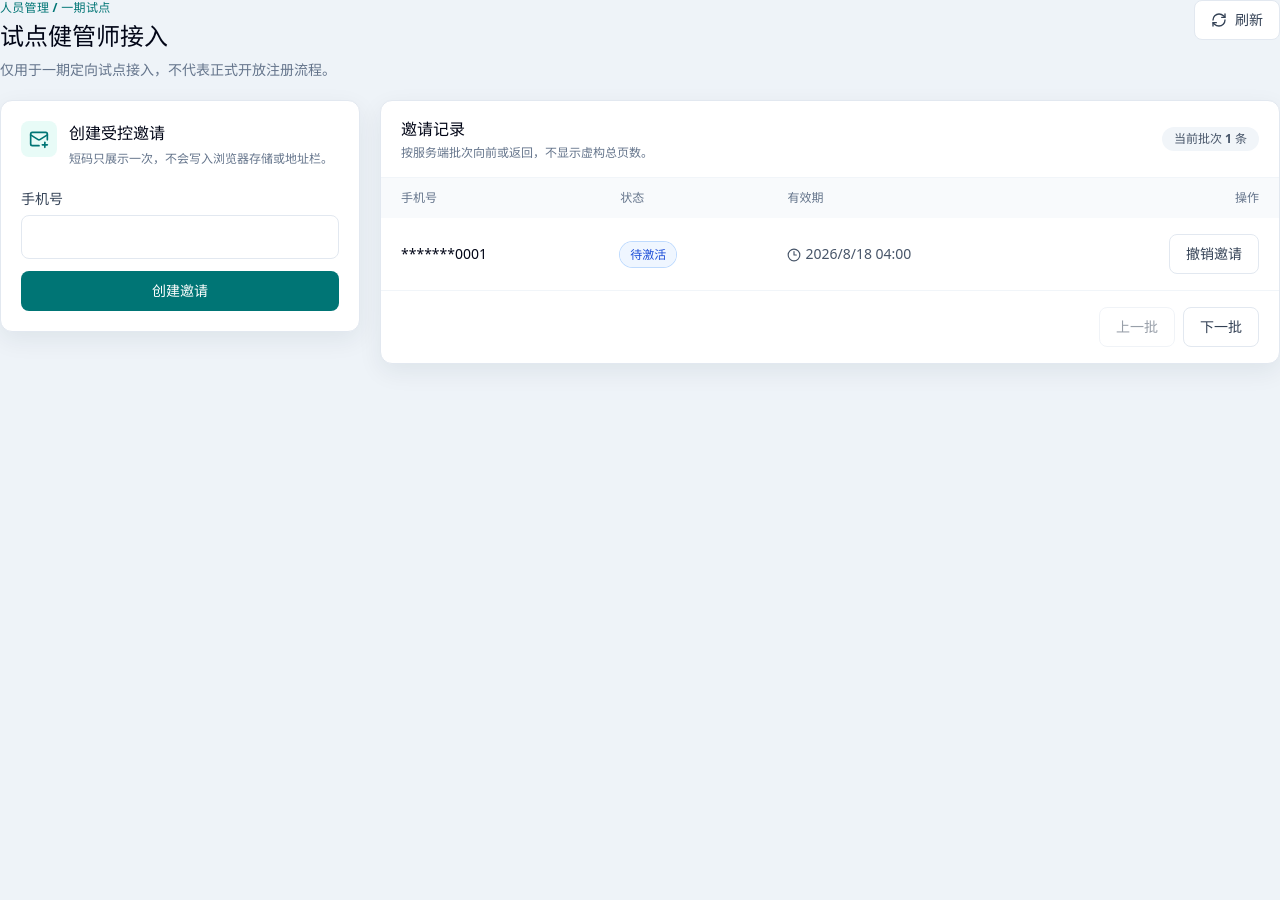
Test: 健管师邀请与资格 › 邀请409只刷新且不自动重放撤销
The image size is (1280, 900).
Click the button "撤销邀请": (1214, 254) left=1169, top=234, right=1259, bottom=274
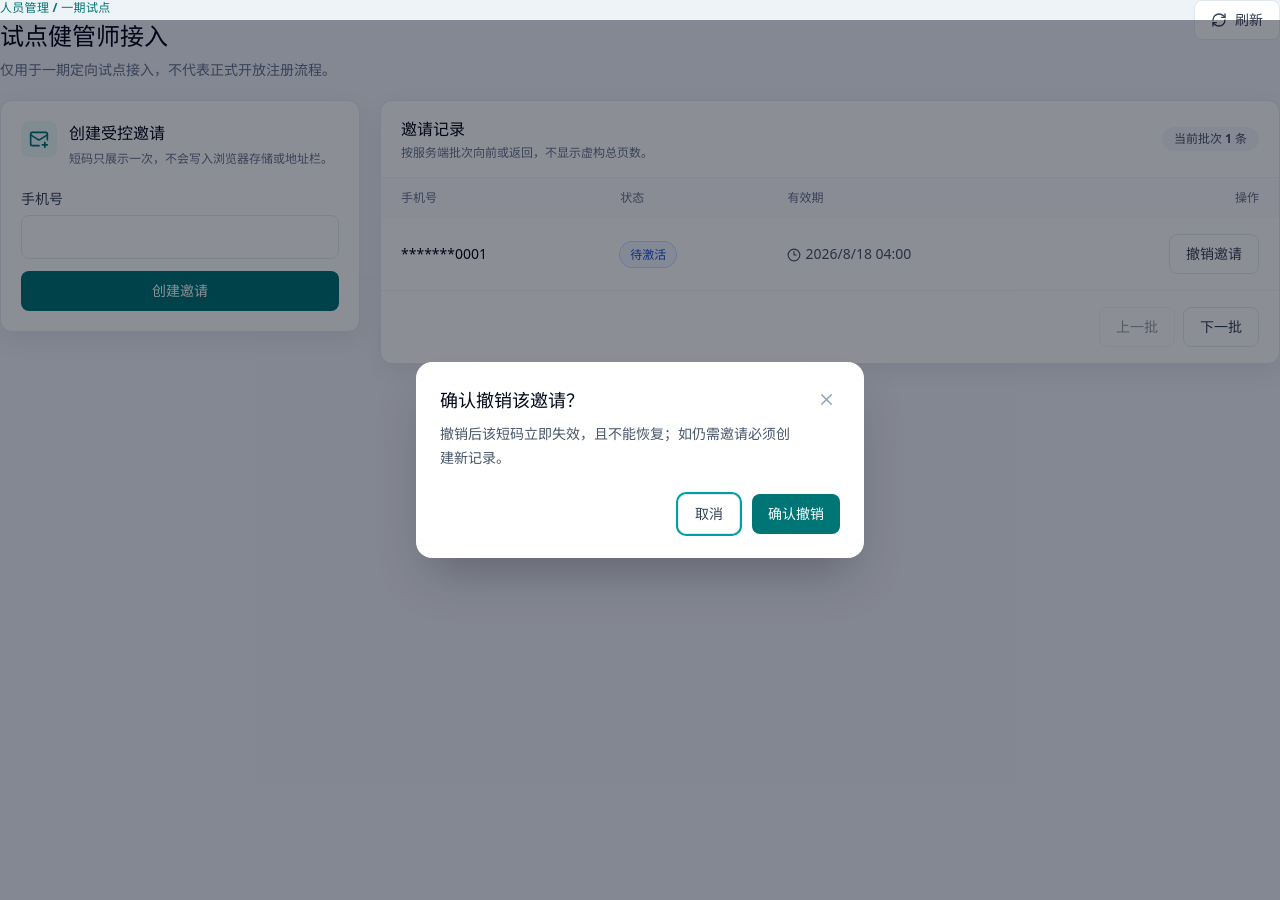
Click the button "确认撤销": (796, 514) left=752, top=494, right=840, bottom=534
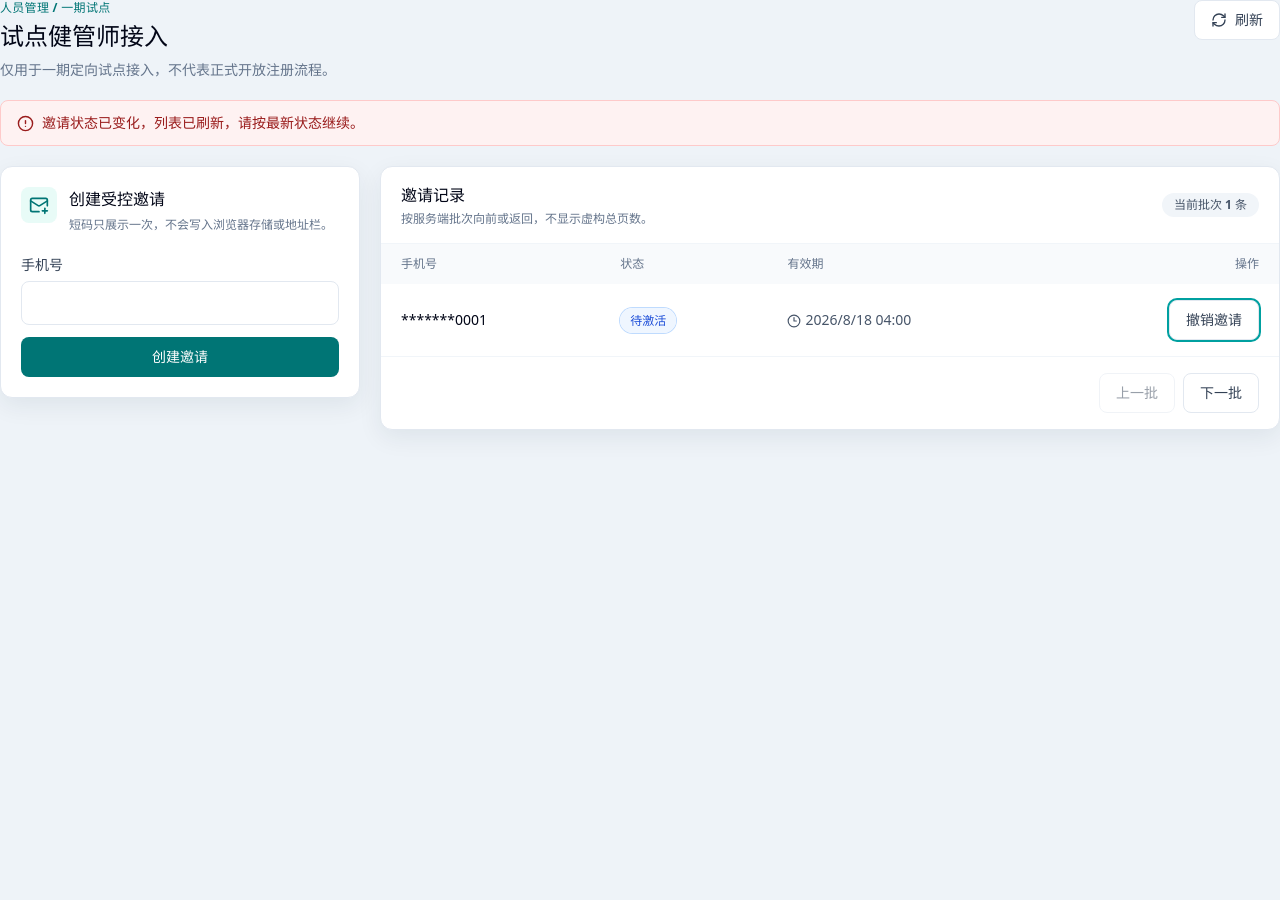
Result: the message shows "已刷新" at left=0, top=100, right=1279, bottom=146
